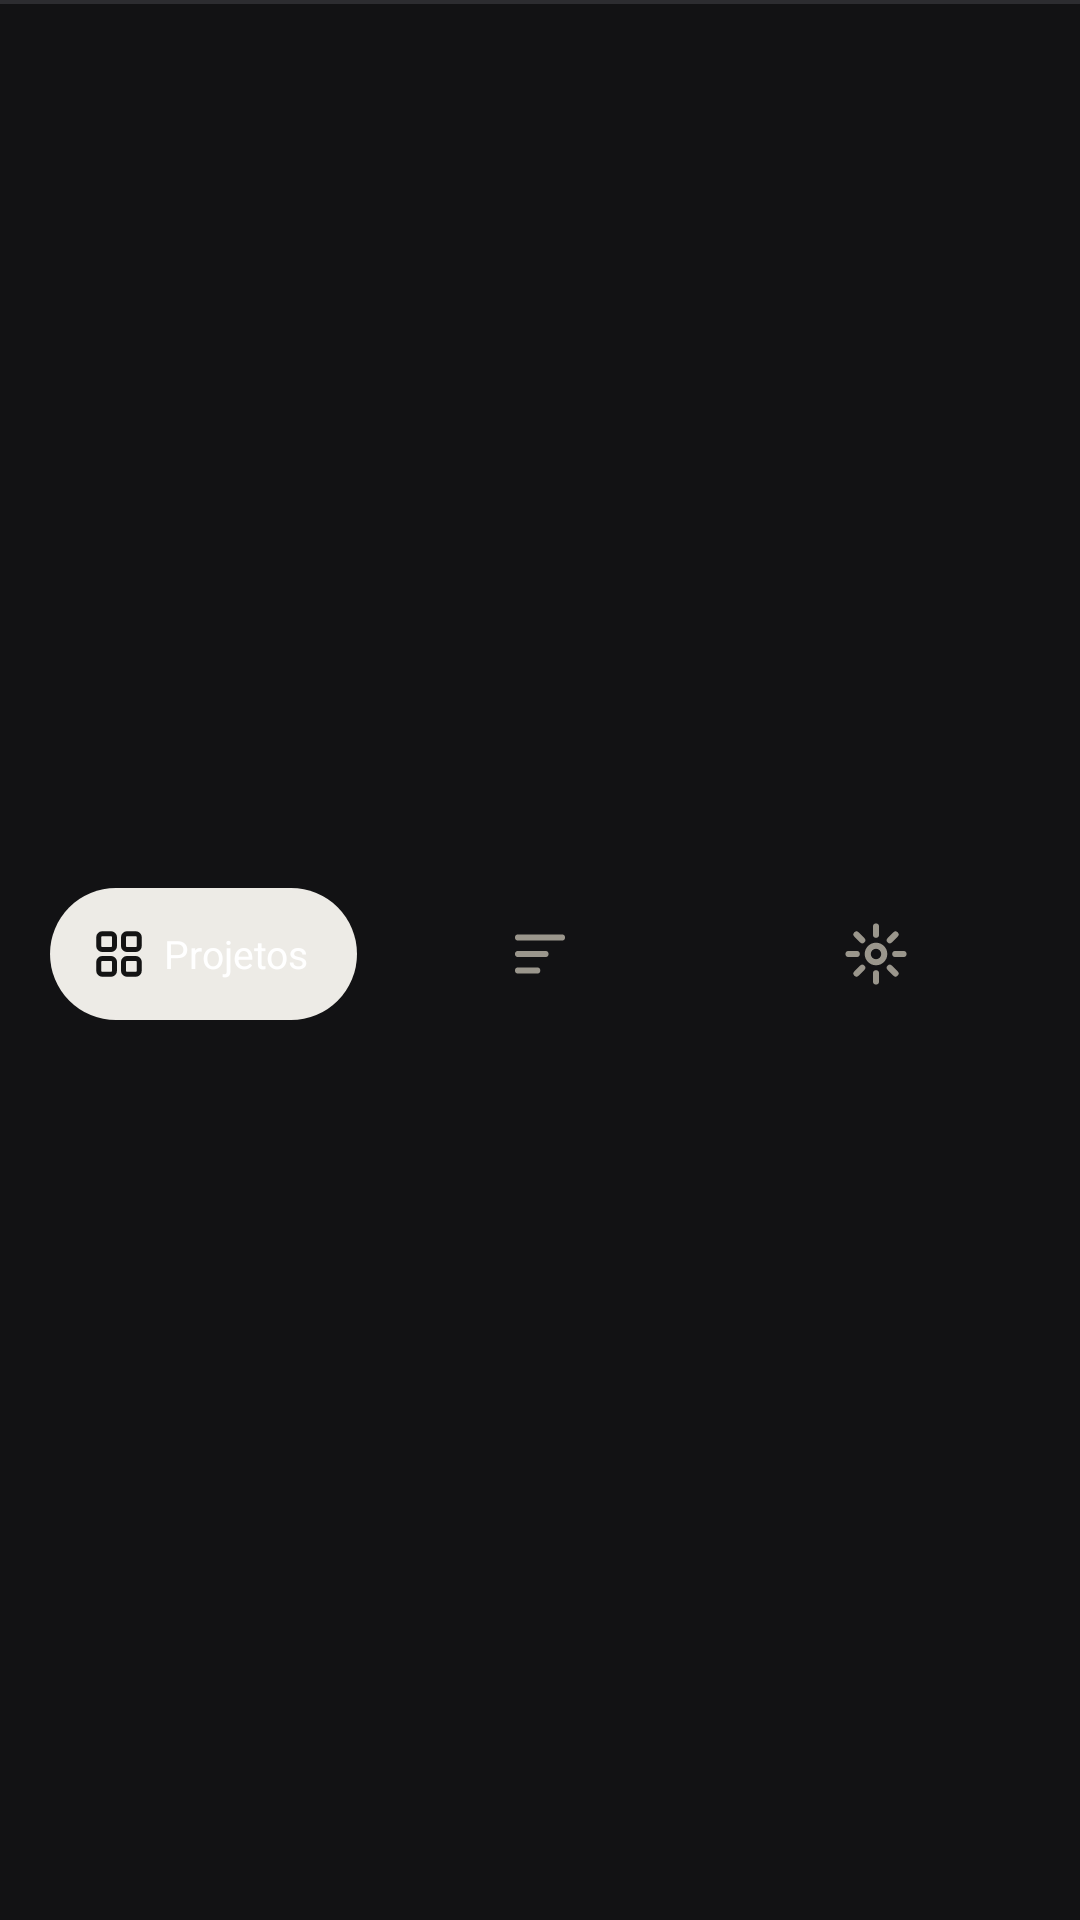

Where icons sit on this 1080px x 1920px app screen, as box(x1, y1, x2, y2):
grid: box(96, 931, 142, 977)
